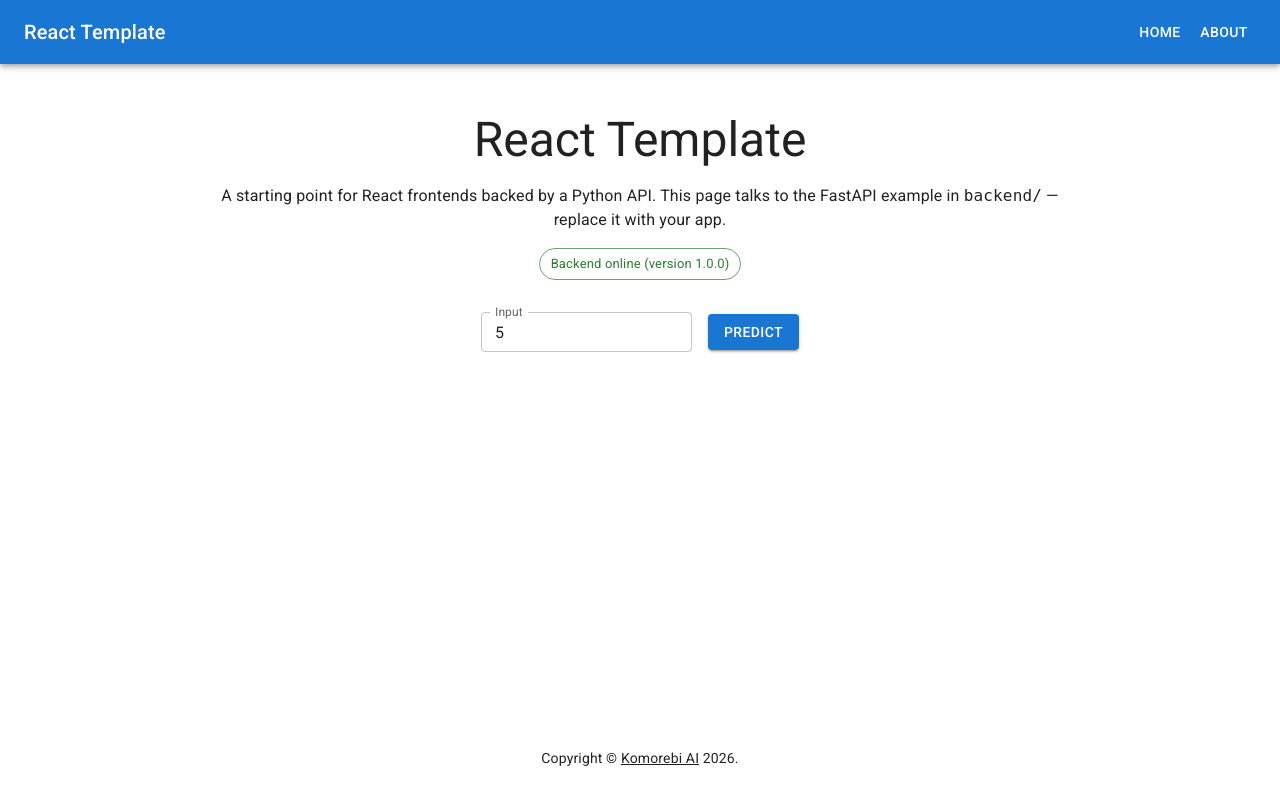
Scenario: App › shows backend status and runs a prediction
The image size is (1280, 800).
Expected: the heading "React Template" is shown, left=474, top=112, right=806, bottom=168
Expected: the text "Backend online (version 1.0.0)" is shown, left=540, top=254, right=740, bottom=274
Click the button "Predict" at (754,332), box left=708, top=314, right=799, bottom=350
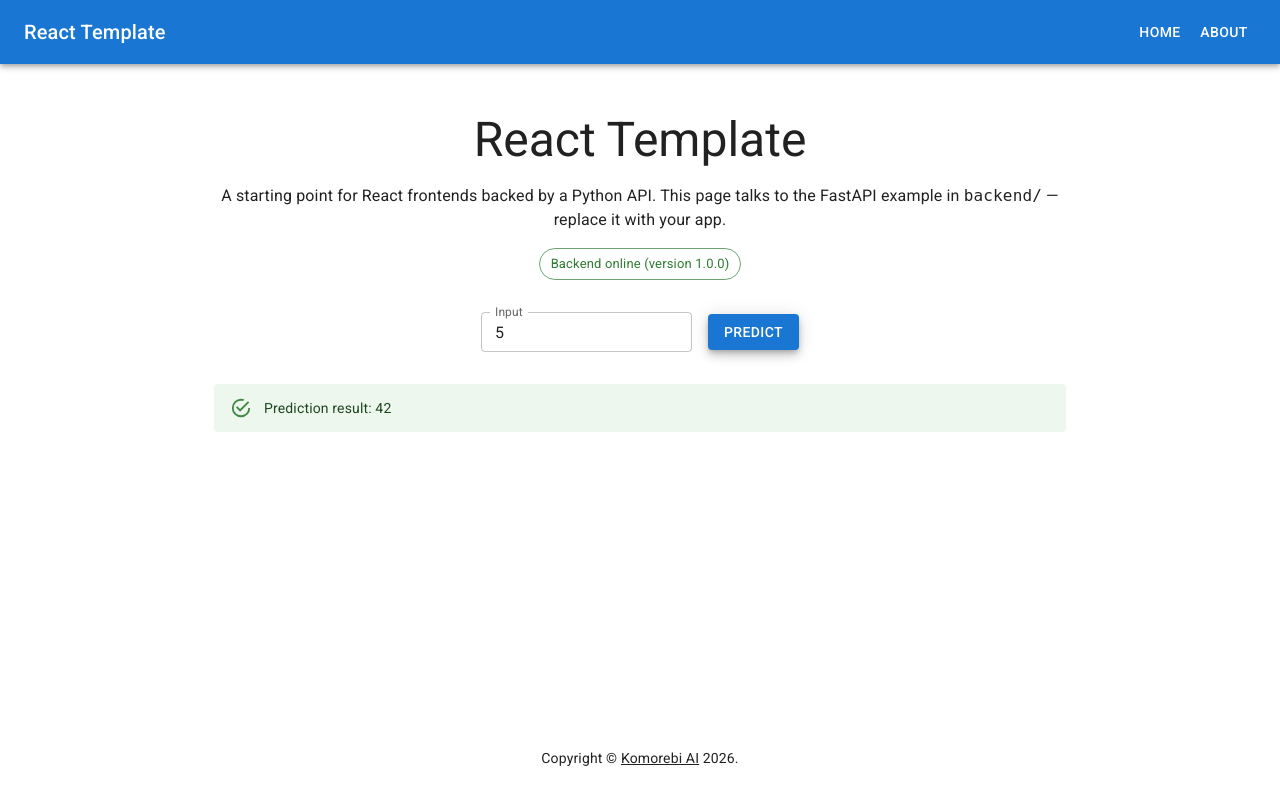
Expected: the text "Prediction result: 42" is shown, left=264, top=400, right=391, bottom=416
